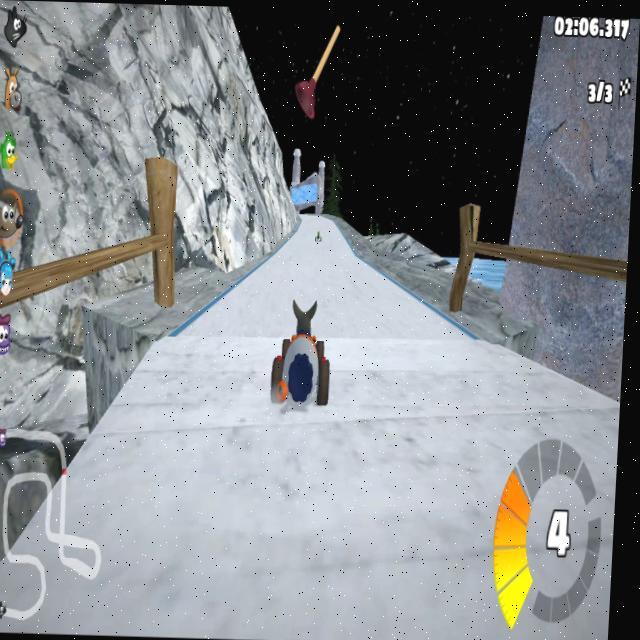enemy_kart: (308, 229, 331, 248)
player_kart: (260, 293, 342, 425)
track: (77, 444, 617, 640), (433, 319, 624, 556), (146, 339, 262, 473), (336, 291, 443, 429), (263, 428, 446, 459), (280, 241, 358, 287), (222, 293, 265, 342), (253, 256, 287, 295), (299, 215, 334, 228)
